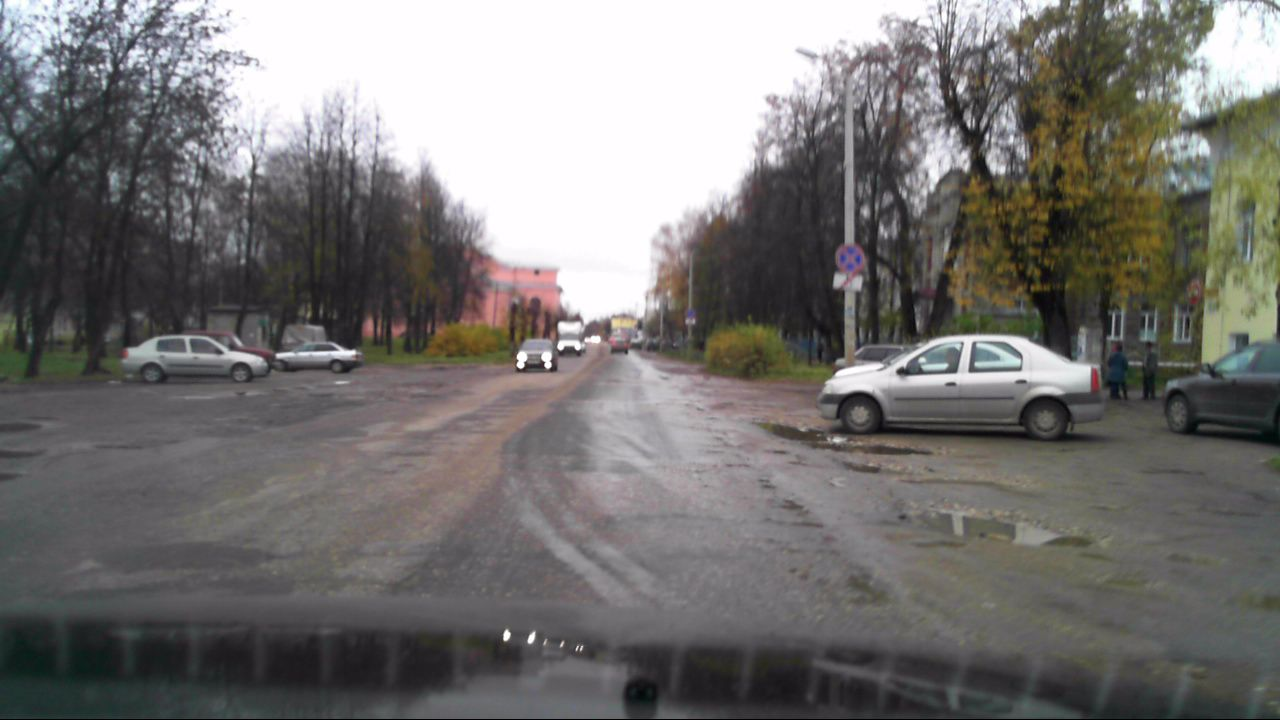No Parking: (834, 243, 866, 272)
